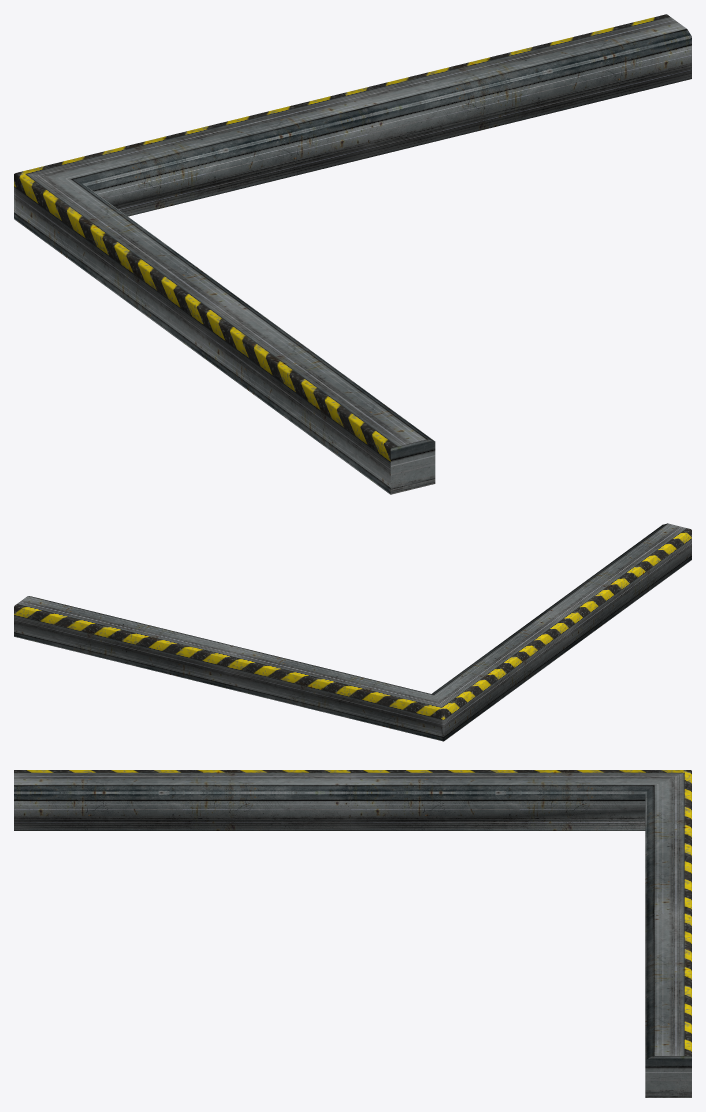
File: Edges_25.fbx
3 views of the same model, one above another, from view 1: azimuth 30°, elevation 25°; view 2: azimuth 150°, elevation 25°; view 3: azimuth 270°, elevation 25° (orthographic). The views are drawn at different scales.
Parts seen in each view (by area): view 1: Edges_25; view 2: Edges_25; view 3: Edges_25.
Boxes of the visible parts, x1,y1,x2,y2 form: Edges_25: (14,14,691,494); Edges_25: (14,523,691,741); Edges_25: (14,770,691,1097).
Bounding box in the file's own units: 403 × 27.46 × 403.
Materials: 1 (1 with a texture image).
